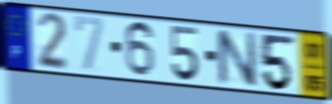2: (35, 10, 70, 71)
5: (258, 31, 298, 92), (169, 24, 200, 83)
6: (123, 19, 159, 80)
7: (72, 14, 110, 75)
N: (213, 28, 259, 89)
